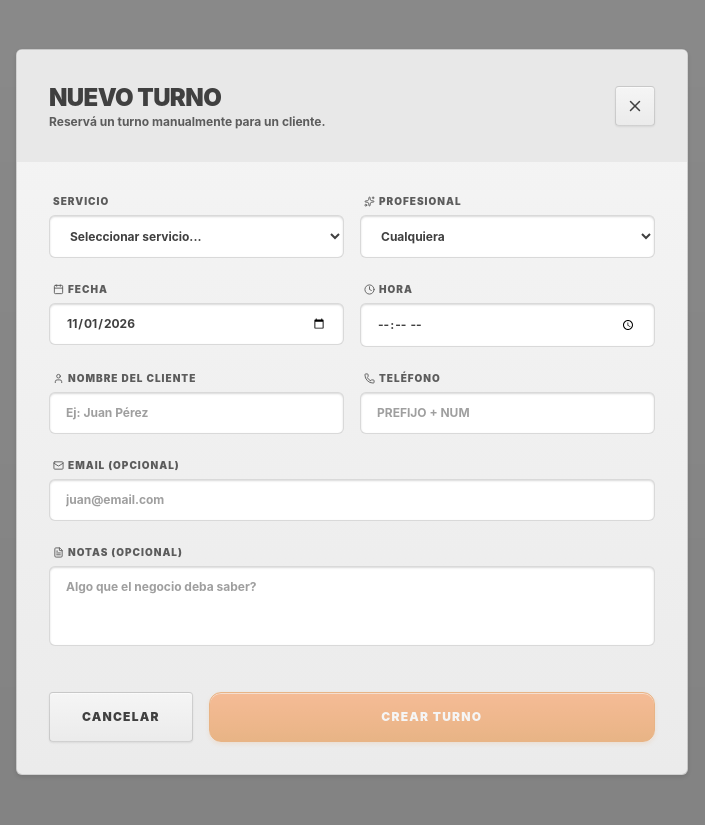
NewAppointmentModal › el error del alta se lleva a la vista y toma el foco
Select "Corte" in the dropdown showing "Seleccionar servicio..." below "Servicio" at (196, 236), box [49,215,344,258]
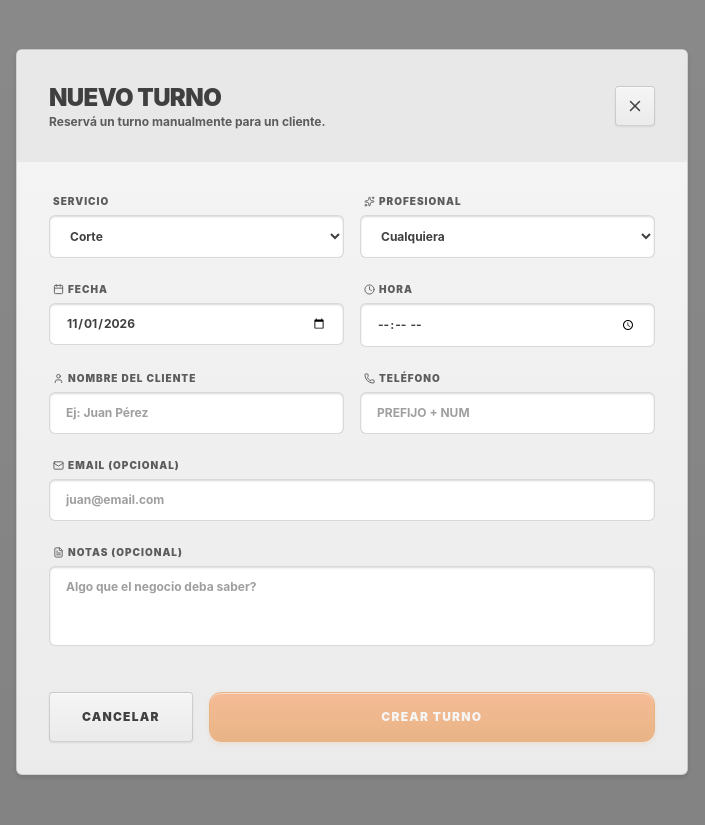
Type "Juan Perez" into the field with placeholder "Ej: Juan Pérez" at (196, 413), box [49,392,344,434]
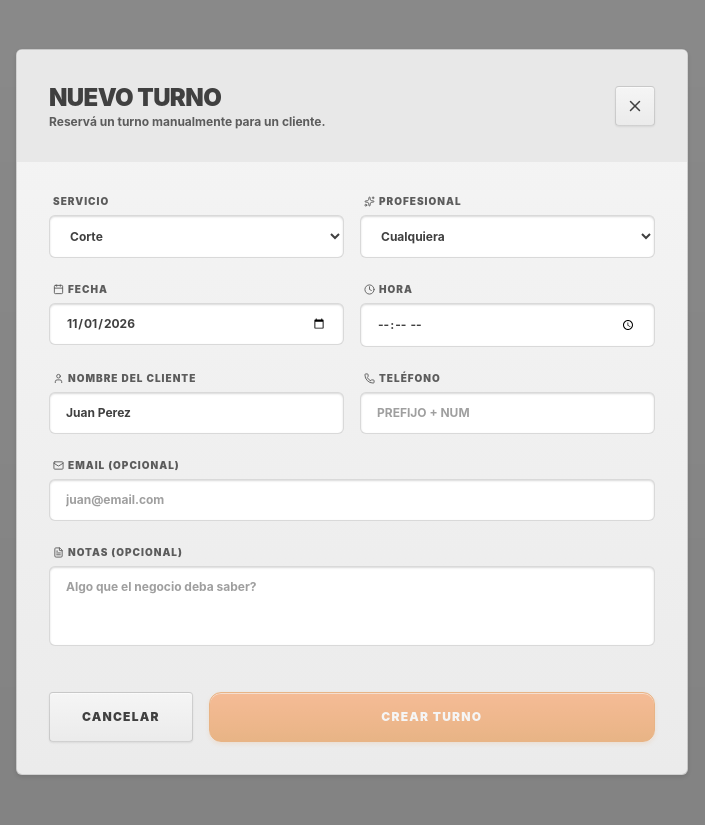
Type "+5491155550101" into the field with placeholder "PREFIJO + NUM" at (508, 413), box [360,392,655,434]
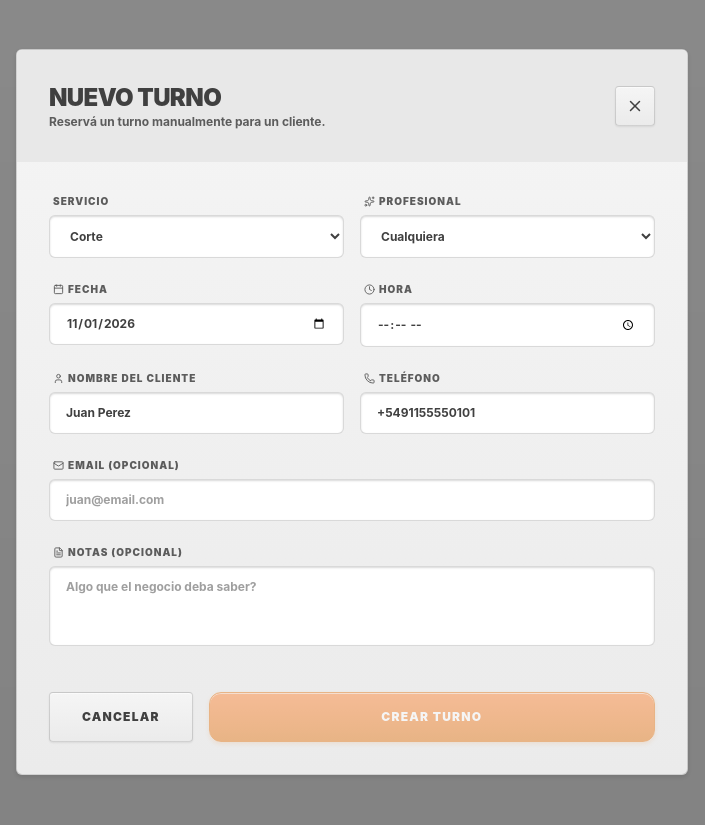
Type "2026-10-01" into the date field at (196, 324), box [49,303,344,345]
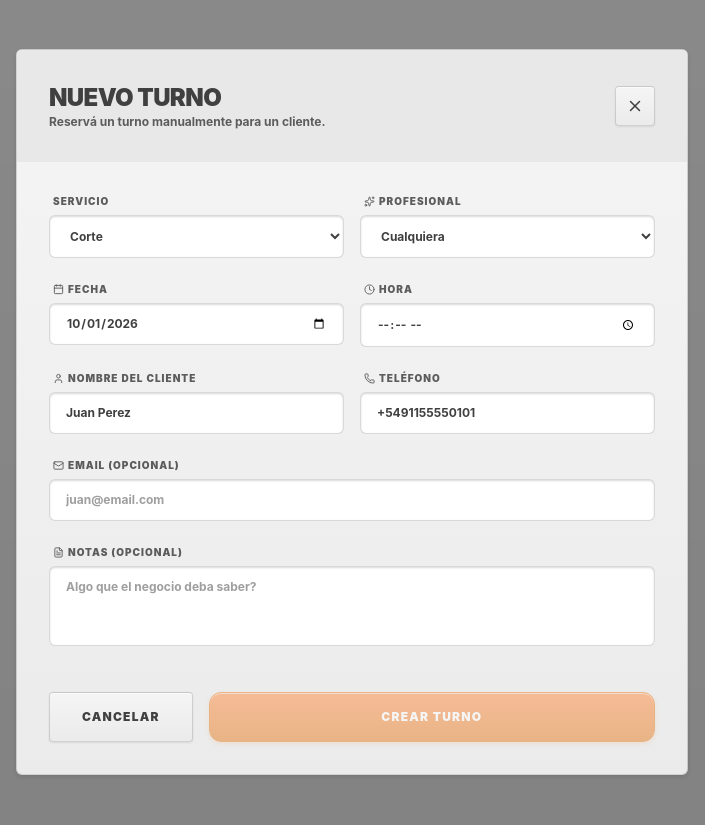
Type "10:00" into the time field at (508, 325), box [360,303,655,347]
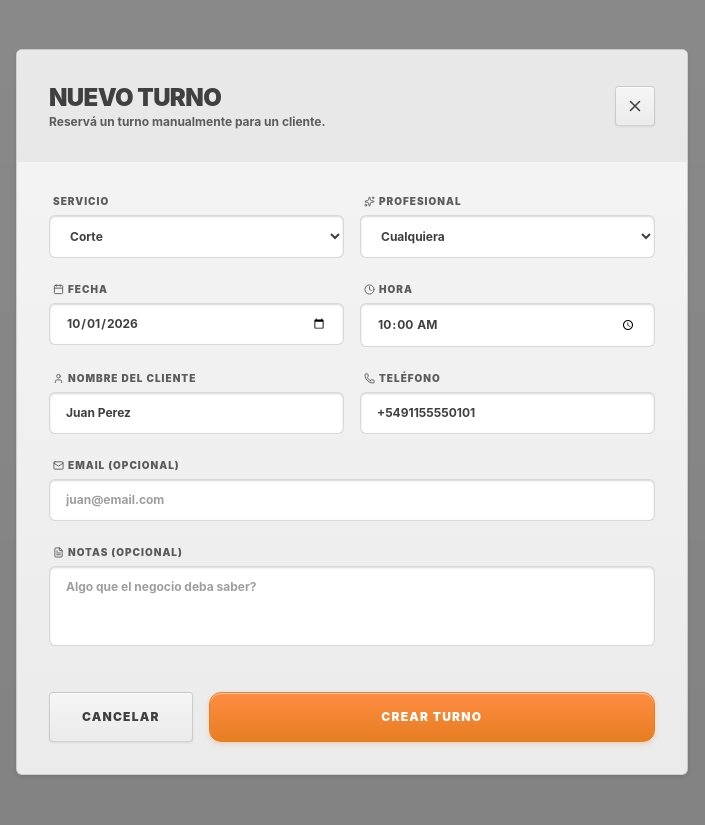
Click the button "Crear Turno" at (432, 717), box [209,692,655,742]
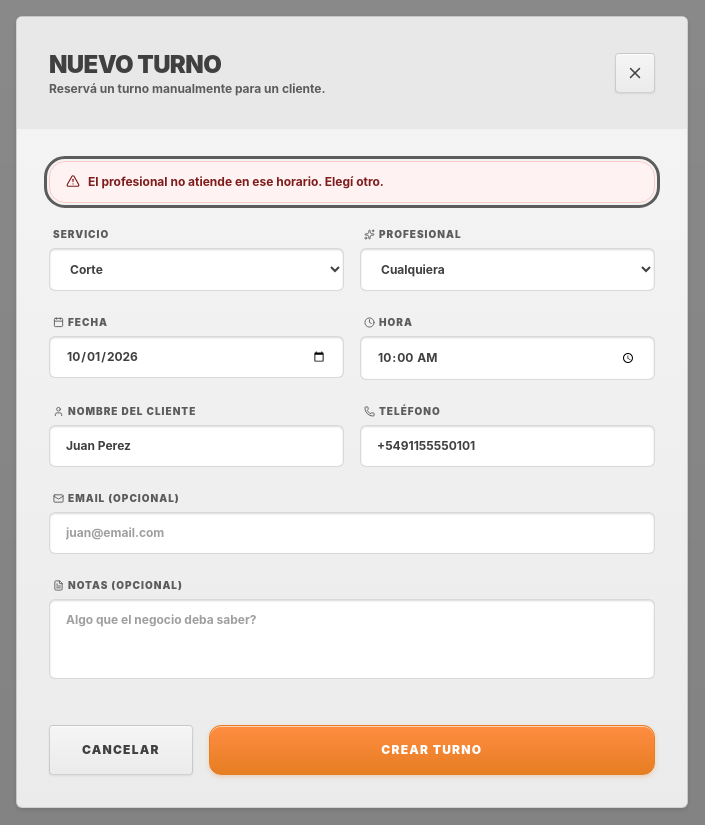
Now the message reads "El profesional no atiende en ese horario. Elegí otro.", box [88,174,384,189]
